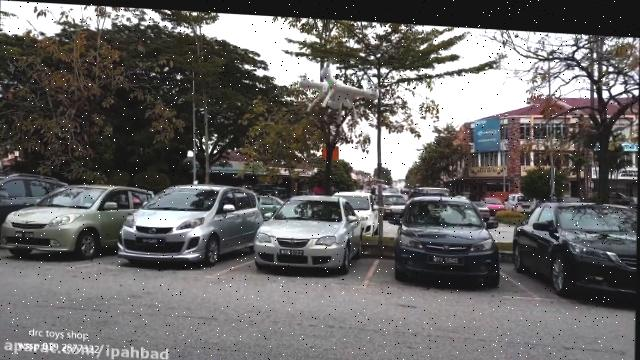drone: (295, 49, 384, 123)
